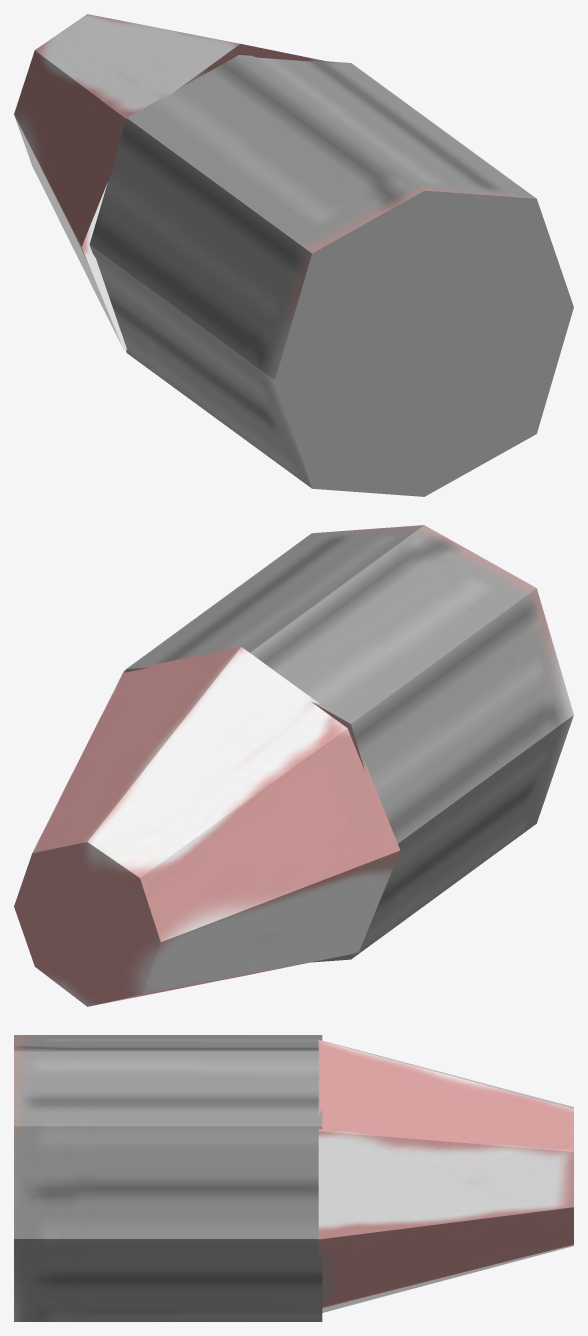
The model's file is bomblet_closed.obj.
3 views of the same model, one above another, from view 1: azimuth 30°, elevation 25°; view 2: azimuth 150°, elevation 25°; view 3: azimuth 270°, elevation 25° (orthographic). The views are drawn at different scales.
Visible parts, largest first — view 1: bomblet_closed_Cube.005; view 2: bomblet_closed_Cube.005; view 3: bomblet_closed_Cube.005.
Part boxes in pixels (x1=…): bomblet_closed_Cube.005: x1=14, y1=14, x2=573, y2=496; bomblet_closed_Cube.005: x1=14, y1=525, x2=573, y2=1006; bomblet_closed_Cube.005: x1=14, y1=1035, x2=573, y2=1321.
Bounding box in the file's own units: 0.5896 × 0.593 × 1.1.
Materials: 1 (1 with a texture image).
